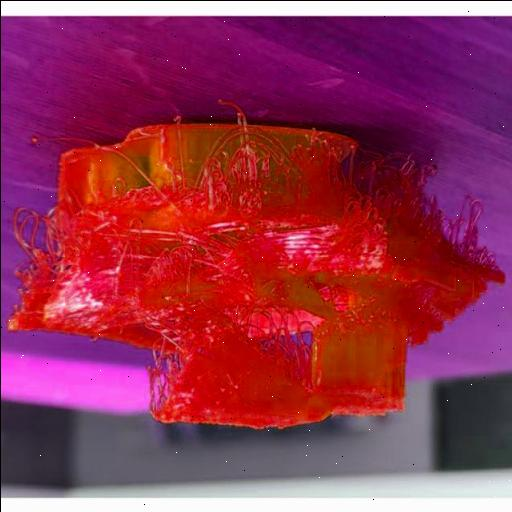spaghetti: (145, 96, 403, 434), (3, 172, 139, 346), (398, 158, 509, 352)
